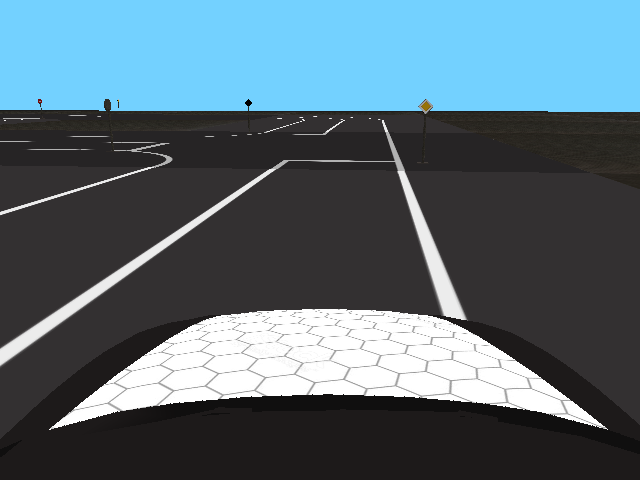yellow_light: (418, 99, 433, 114)
